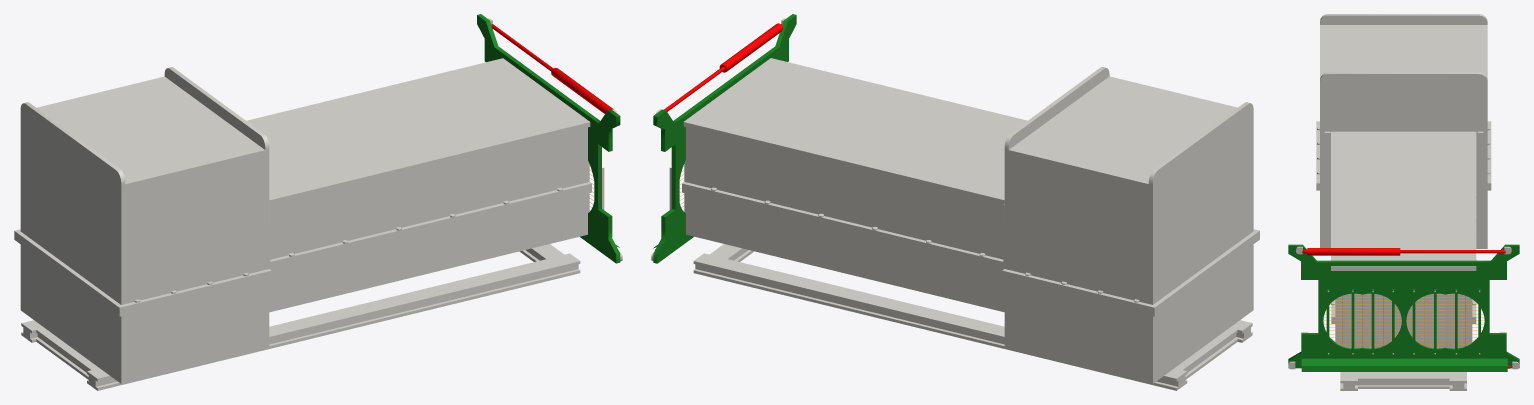
3 renders of one model, left to right at view 1: azimuth 30°, elevation 25°; view 2: azimuth 150°, elevation 25°; view 3: azimuth 270°, elevation 25°, orthographic. The views are drawn at different scales.
Parts seen in each view (by area): view 1: 箱体, 工字刚底座, 网板-1221-皮带布RS标准, 工字刚底座.2, 网板-1221-红色RS标准; view 2: 箱体, 工字刚底座, 网板-1221-皮带布RS标准, 工字刚底座.2, 网板-1221-红色RS标准, 工字刚底座.1; view 3: 箱体, 网板-1221-皮带布RS标准, 网板-1221-黄颜色RS标准, 工字刚底座.1, 网板-1221-红色RS标准, 工字刚底座, 网板.
Part boxes in pixels (box(x1,y1,x2,y2)): 箱体: box(14, 58, 591, 383); 工字刚底座: box(21, 253, 580, 390); 网板-1221-皮带布RS标准: box(477, 14, 620, 263); 工字刚底座.2: box(29, 323, 99, 379); 网板-1221-红色RS标准: box(491, 24, 613, 113); 箱体: box(682, 58, 1259, 383); 工字刚底座: box(693, 253, 1252, 390); 网板-1221-皮带布RS标准: box(653, 14, 796, 263); 工字刚底座.2: box(1167, 322, 1244, 379); 网板-1221-红色RS标准: box(655, 23, 783, 249); 工字刚底座.1: box(702, 244, 753, 264); 箱体: box(1316, 14, 1491, 348); 网板-1221-皮带布RS标准: box(1288, 244, 1519, 371); 网板-1221-黄颜色RS标准: box(1323, 294, 1484, 347); 工字刚底座.1: box(1347, 372, 1461, 388); 网板-1221-红色RS标准: box(1302, 248, 1510, 368); 工字刚底座: box(1340, 372, 1466, 390); 网板: box(1288, 246, 1519, 369).
Size of the model in its own units: 3.31 by 1.41 by 1.59.
